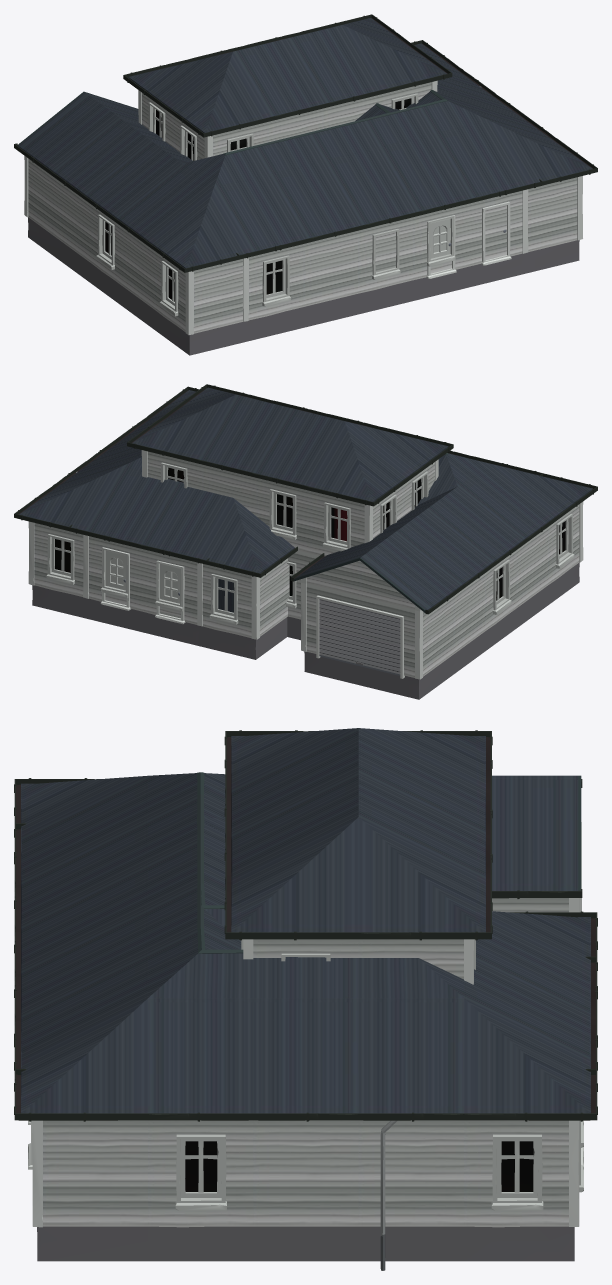
The model's file is suburban-houses.gltf.
3 renders of one model, top to bottom at view 1: azimuth 30°, elevation 25°; view 2: azimuth 150°, elevation 25°; view 3: azimuth 270°, elevation 25°, orthographic. The views are drawn at different scales.
Visible parts, largest first — view 1: suburban-house_3, suburban-house_2, suburban-house_1; view 2: suburban-house_3, suburban-house_2, suburban-house_1; view 3: suburban-house_3, suburban-house_2, suburban-house_1.
Boxes of the visible parts, left/top/right/bottom form: suburban-house_3: left=14, top=40, right=597, bottom=355; suburban-house_2: left=123, top=14, right=452, bottom=160; suburban-house_1: left=236, top=103, right=543, bottom=341; suburban-house_3: left=14, top=386, right=597, bottom=699; suburban-house_2: left=127, top=384, right=453, bottom=640; suburban-house_1: left=68, top=450, right=542, bottom=659; suburban-house_3: left=14, top=772, right=597, bottom=1270; suburban-house_2: left=224, top=728, right=492, bottom=984; suburban-house_1: left=14, top=817, right=597, bottom=1147.
Size of the model in its own units: 18.87 by 8.77 by 13.87.
Materials: 1 (1 with a texture image).
